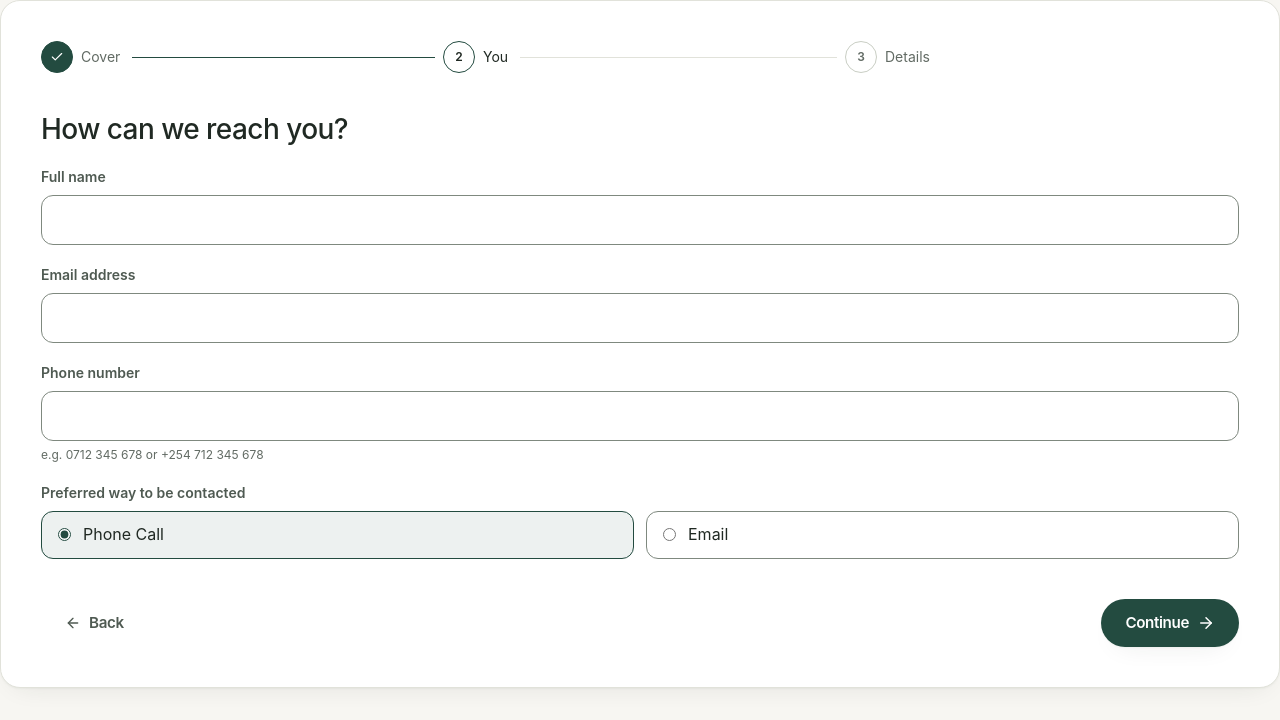
QuoteForm journey › pressing Enter on an early step advances instead of submitting the whole form
This screenshot has width=1280, height=720.
Step 1. Type "Amina" into the field labelled "Full name" → [640, 220], box [41,195,1239,245]
Then press Enter
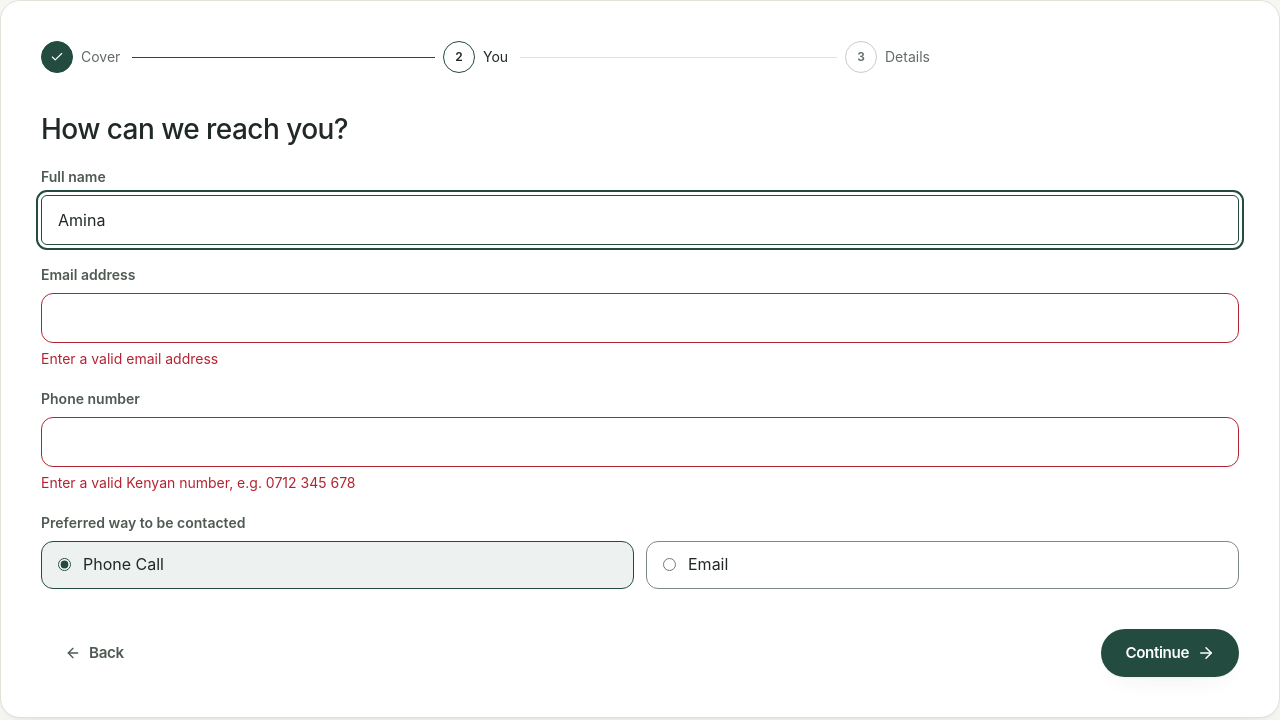
expect the text "Enter a valid email address" is shown: met, box [41,350,218,367]
